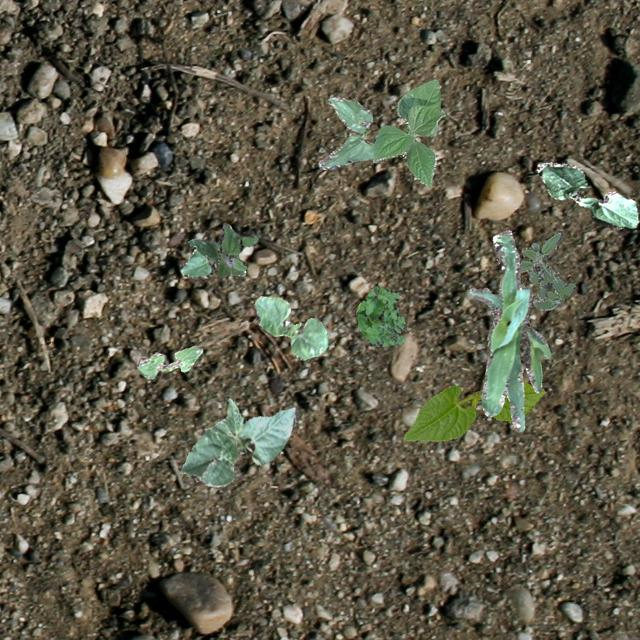crop: (468, 228, 550, 432), (180, 398, 298, 486), (402, 380, 544, 440), (372, 78, 444, 185), (536, 160, 638, 228), (252, 294, 326, 360), (316, 96, 372, 168), (136, 344, 202, 378), (178, 248, 244, 276)
weed: (518, 230, 574, 310), (186, 222, 256, 276), (356, 284, 406, 346)
